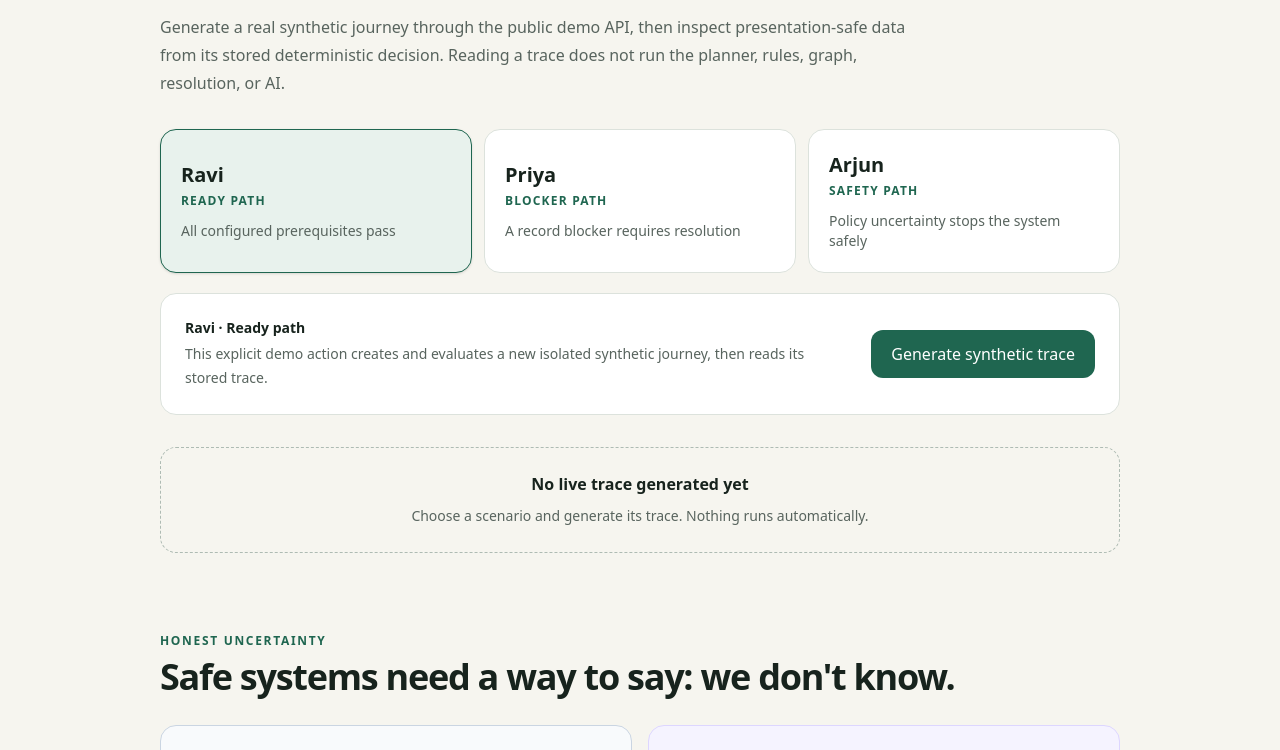
Test: Phase 7D system explorer › keeps a safe error state when trace loading fails
The image size is (1280, 750).
(page scrolled)
Click the button "Generate synthetic trace": (983, 354) [871,330,1095,378]
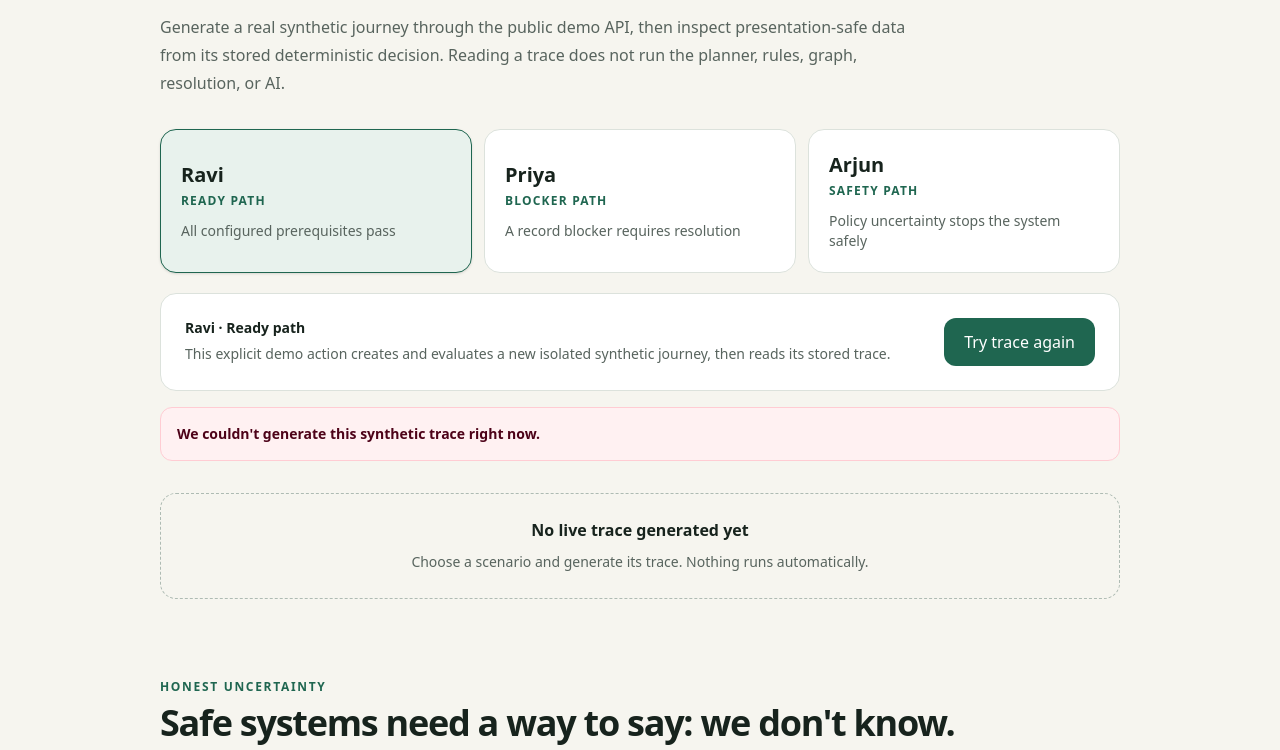
Expected: the text "No live trace generated yet" is shown, [531,519,749,541]
Expected: the message reads "We couldn't generate this synthetic trace right now.", [177,424,540,443]
